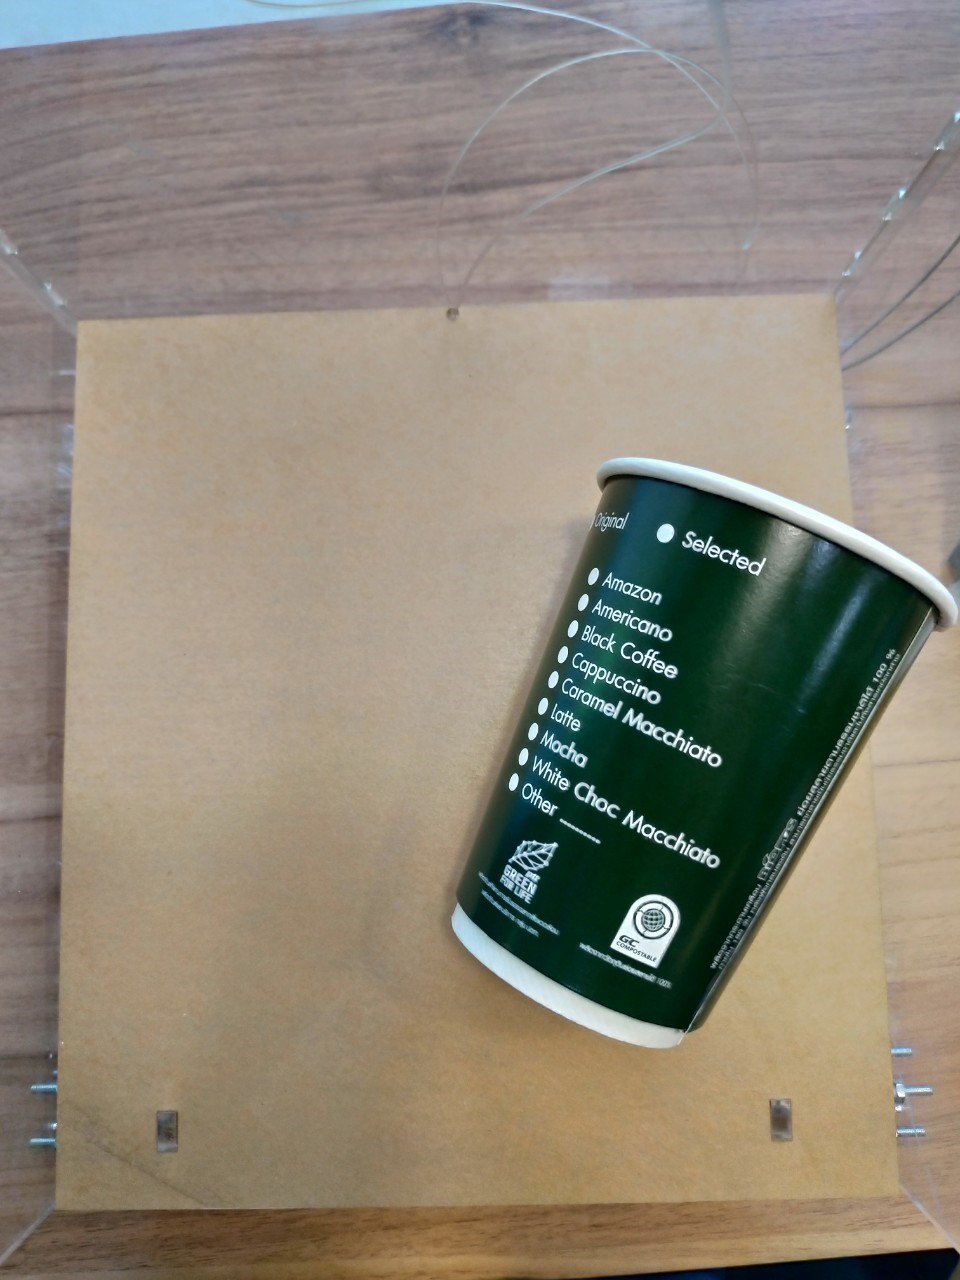PaperCup: (449, 451, 957, 1047)
